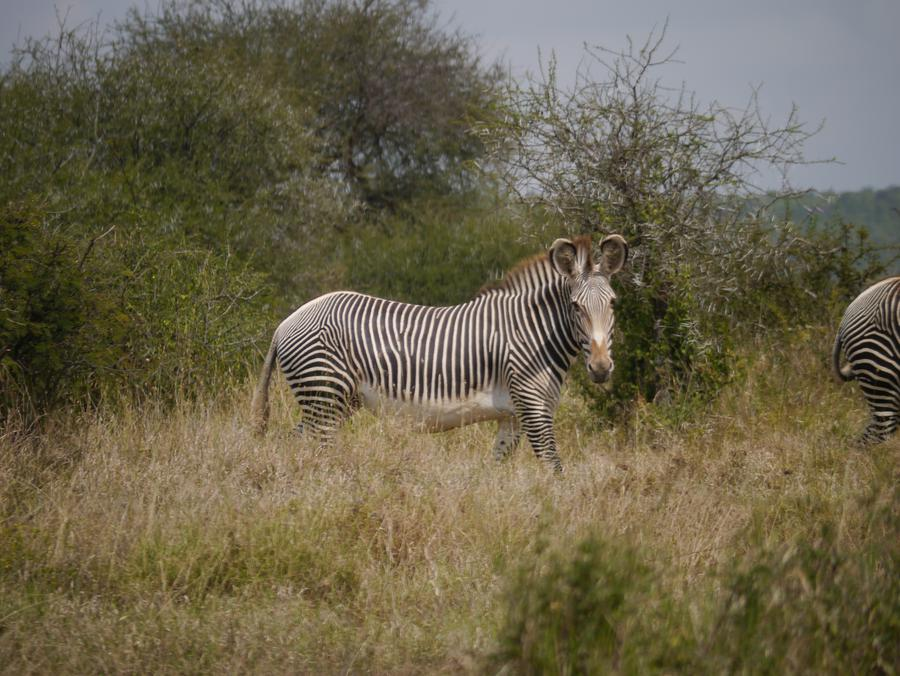zebra_grevys: (260, 270, 557, 398)
